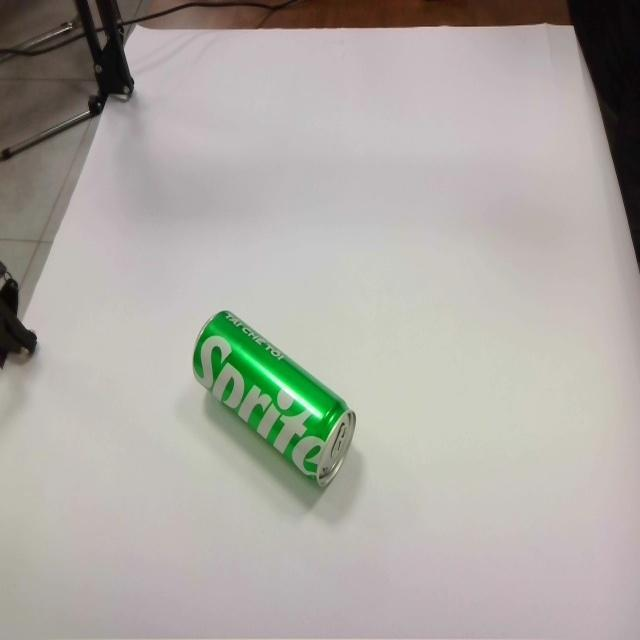debris: (190, 308, 357, 492)
